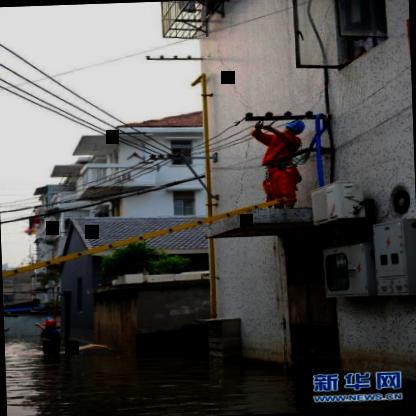helmet: (279, 118, 308, 139), (42, 317, 62, 330)
